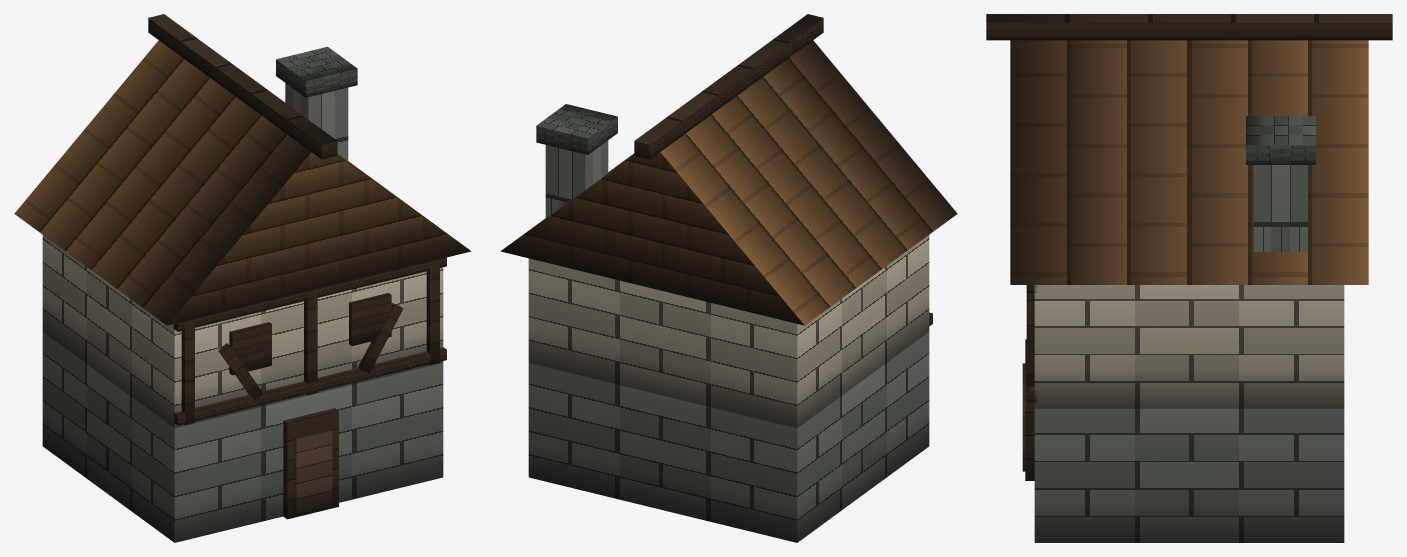
The model's file is house_small.glb.
The picture shows the model from 3 angles, left to right: view 1: azimuth 30°, elevation 25°; view 2: azimuth 150°, elevation 25°; view 3: azimuth 270°, elevation 25°; orthographic projection. The views are drawn at different scales.
Parts seen in each view (by area): view 1: house_small; view 2: house_small; view 3: house_small.
Part boxes in pixels (x1,y1,x2,y2): house_small: [14, 14, 471, 542]; house_small: [500, 14, 957, 542]; house_small: [986, 14, 1392, 542].
Size of the model in its own units: 1.53 by 1.83 by 1.51.
Materials: 1 (1 with a texture image).
